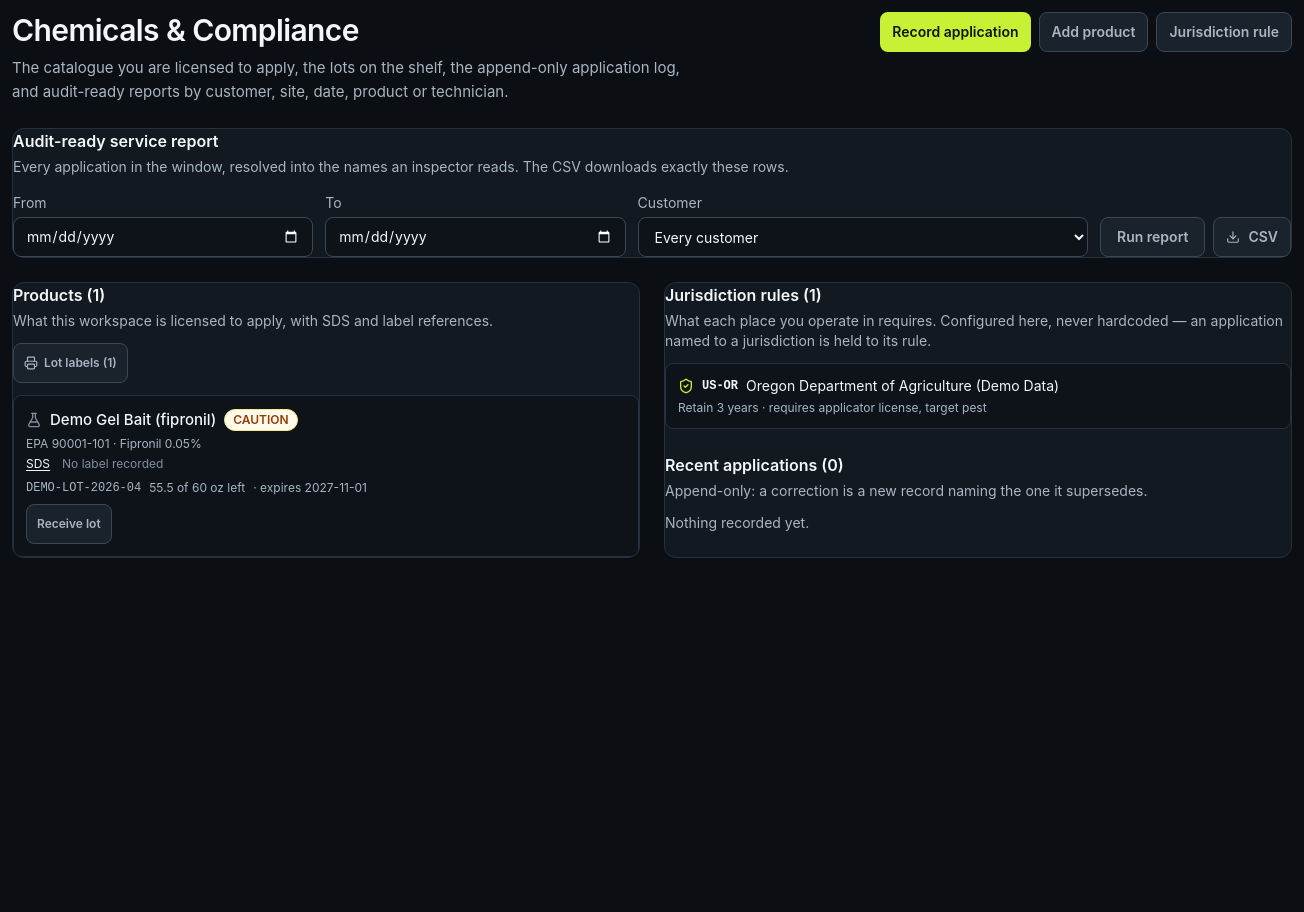
the compliance panel › runs the audit report and offers the same window as a CSV download
This screenshot has width=1304, height=912.
Expected: the list with test id "services-products" is shown, [13,395,639,557]
Type "2026-08-01" into the date field labelled "From" at (163, 237), box [13,217,313,257]
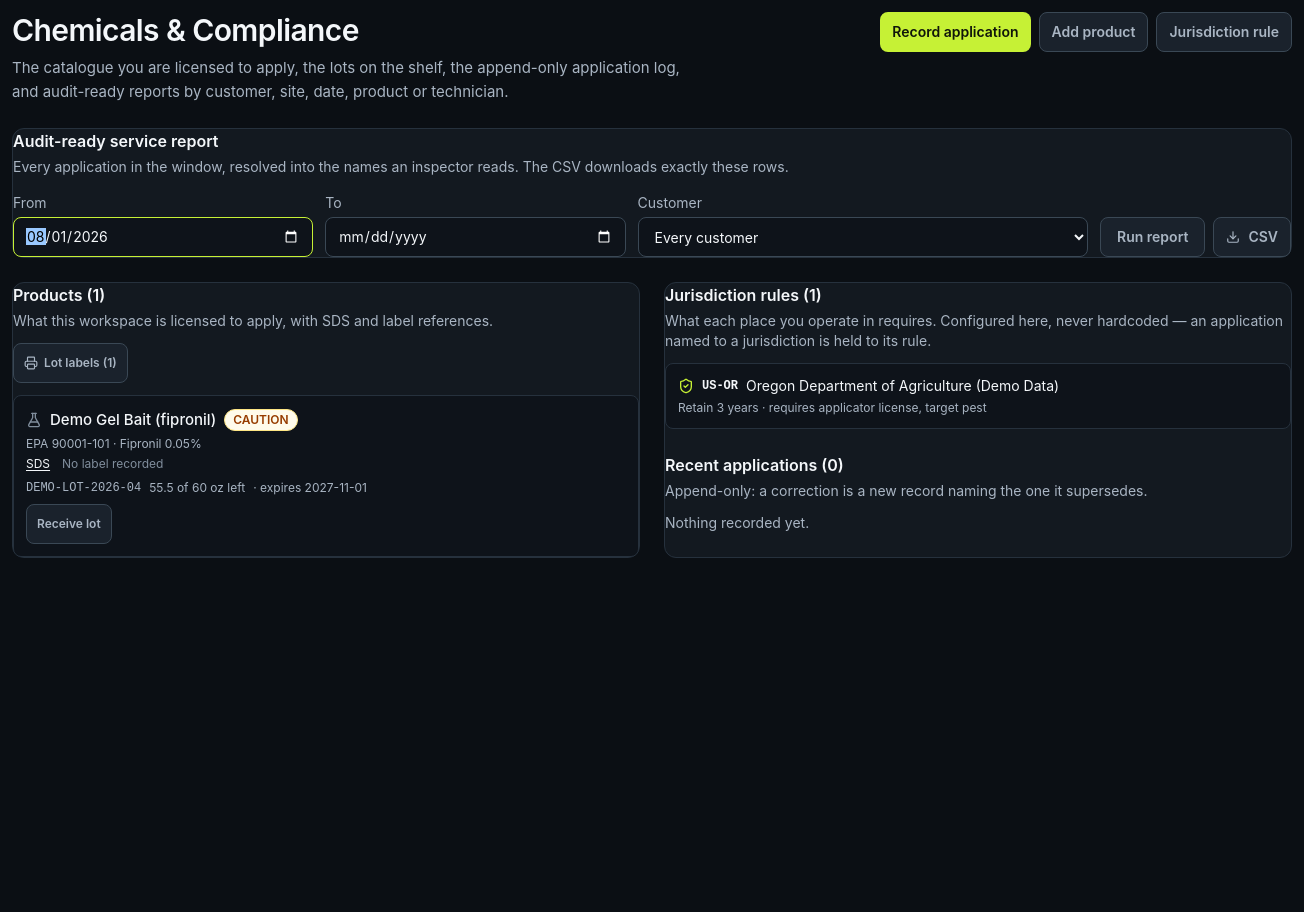
Type "2026-08-31" into the date field labelled "To" at (475, 237), box [325,217,626,257]
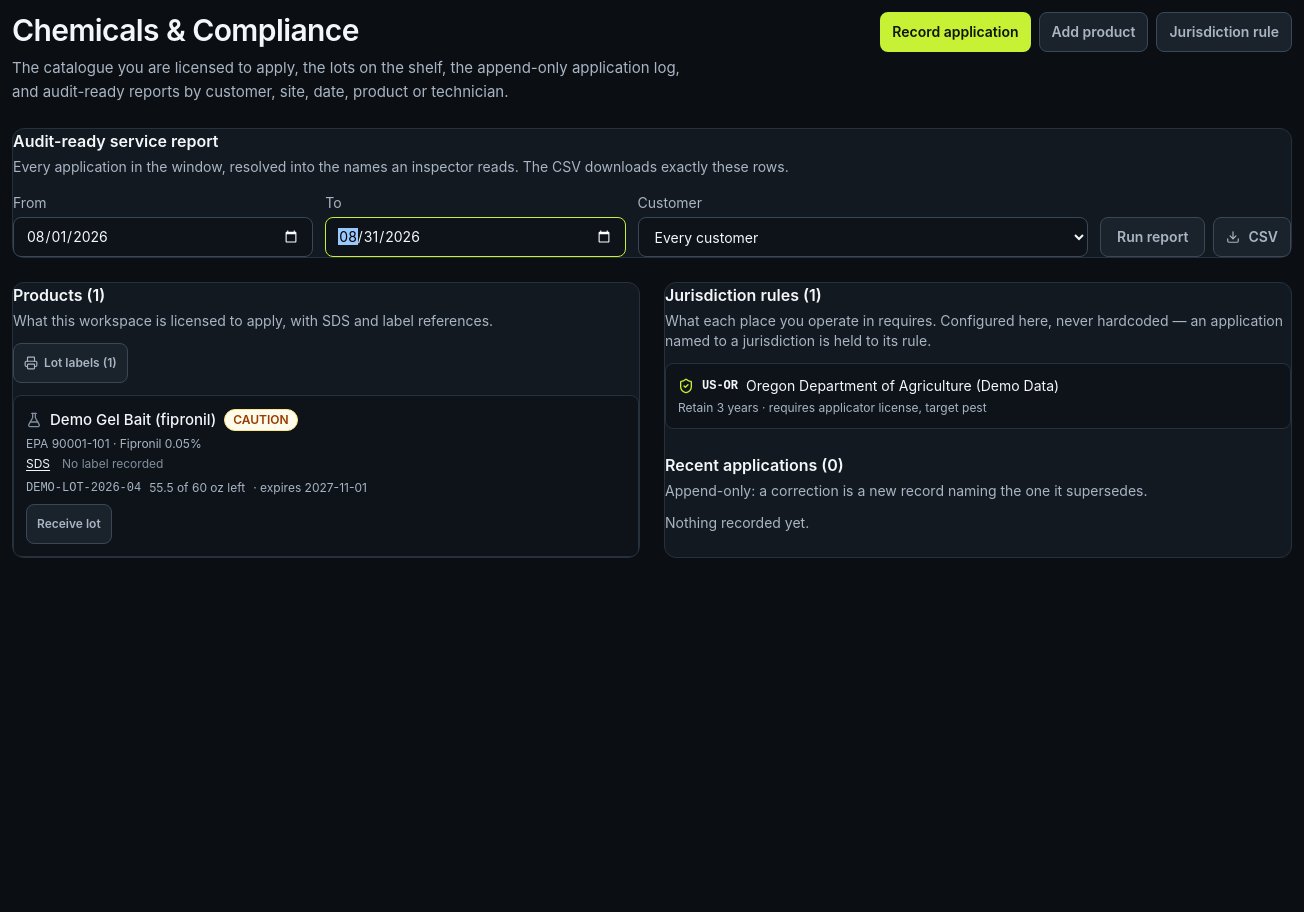
Click the button "Run report" at (1153, 237), box [1100,217,1205,257]
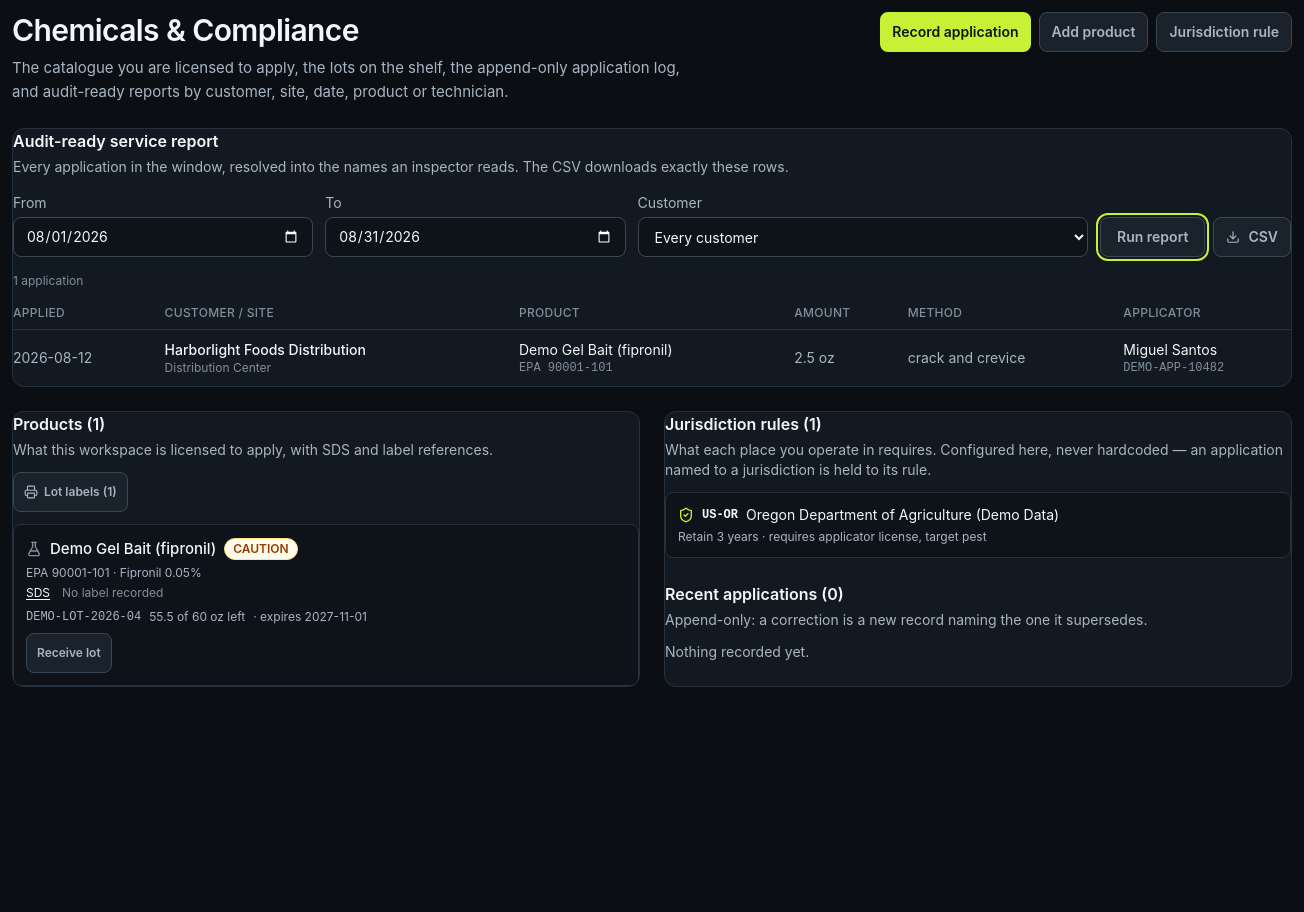
Expected: the text "Harborlight Foods Distribution" is shown, [165,341,366,358]
Expected: the text "EPA 90001-101" is shown, [519,361,613,375]
Expected: the text "DEMO-APP-10482" is shown, [1123,361,1224,375]
